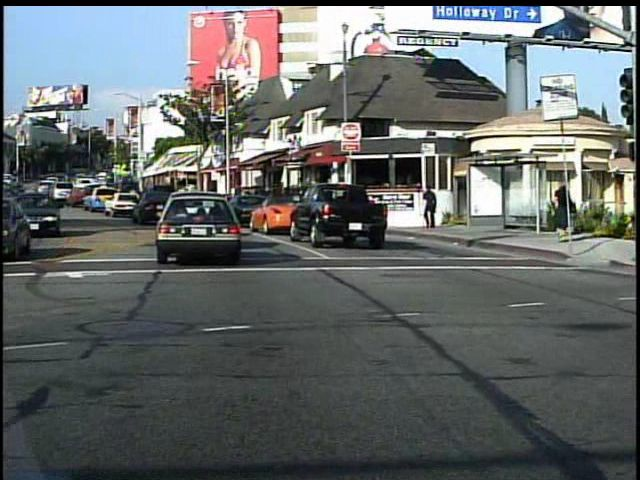person: (549, 176, 578, 250), (421, 185, 437, 235)
